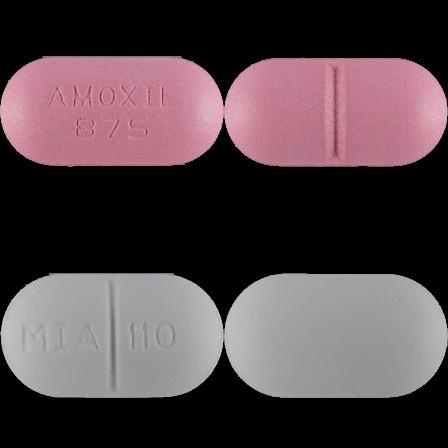61919-017: (0, 0, 224, 224)
